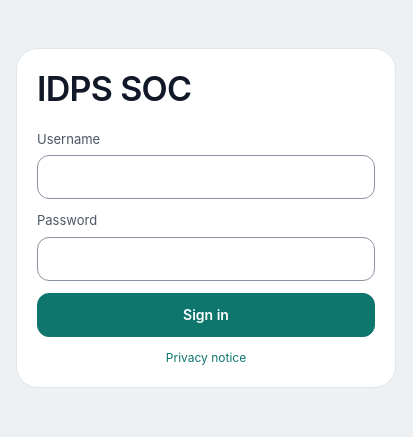
Test: Login password and code › shows an incorrect-code error and clears the field
Type "alice" into the field labelled "Username" at (206, 177), box left=37, top=155, right=375, bottom=199
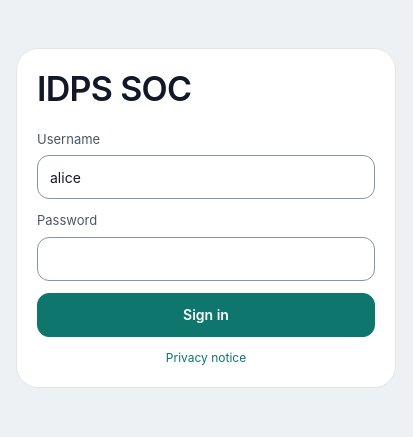
Type "pw" into the password field labelled "Password" at (206, 259), box left=37, top=237, right=375, bottom=281
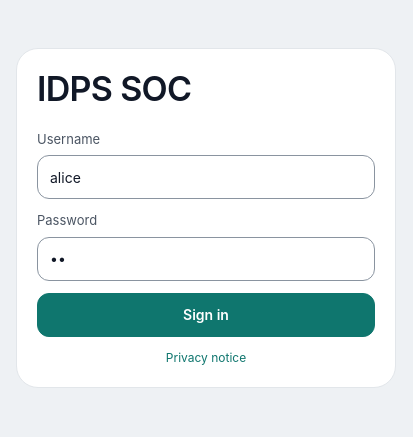
Click the button "Sign in" at (206, 315), box left=37, top=293, right=375, bottom=337
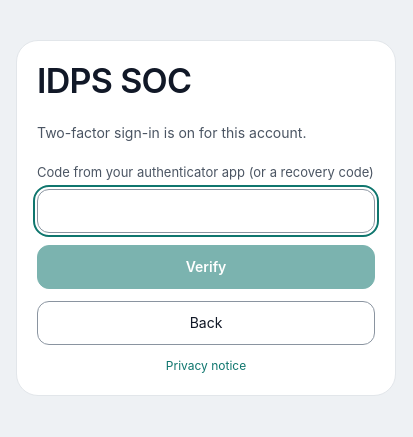
Type "123456" into the field labelled "Code from your authenticator app (or a recovery code)" at (206, 211), box left=37, top=189, right=375, bottom=233
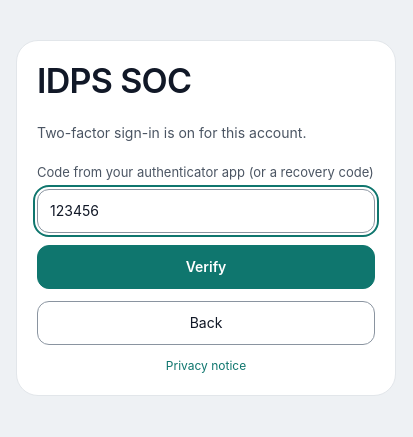
Click the button "Verify" at (206, 267), box left=37, top=245, right=375, bottom=289
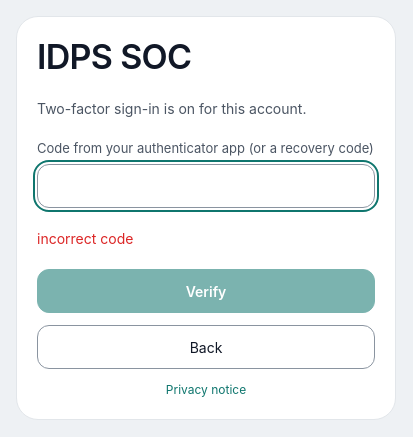
Now the message reads "incorrect code", box left=37, top=230, right=133, bottom=247
Now the field labelled "Code from your authenticator app (or a recovery code)" is empty, box left=37, top=164, right=375, bottom=208
